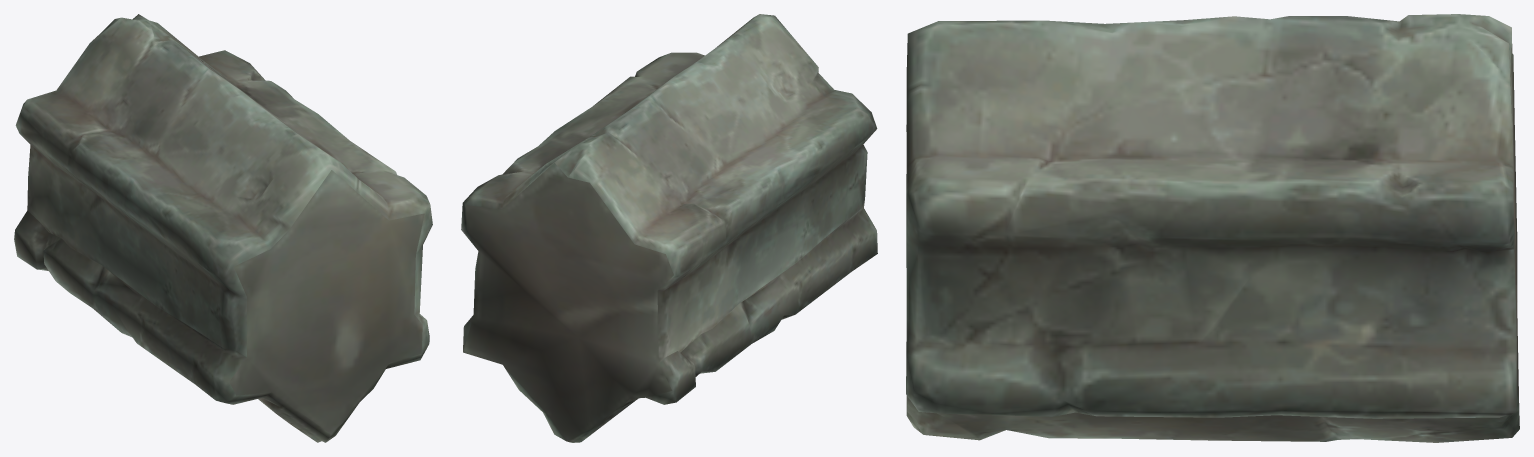
Rendered from Ruins_Pillar_5m_B.obj.
The picture shows the model from 3 angles, left to right: view 1: azimuth 30°, elevation 25°; view 2: azimuth 150°, elevation 25°; view 3: azimuth 270°, elevation 25°; orthographic projection. The views are drawn at different scales.
Parts seen in each view (by area): view 1: Dn_HL_Ruins_Pillar_5m_B; view 2: Dn_HL_Ruins_Pillar_5m_B; view 3: Dn_HL_Ruins_Pillar_5m_B.
Boxes of the visible parts, <box> form: Dn_HL_Ruins_Pillar_5m_B: <box>14,14,432,442</box>; Dn_HL_Ruins_Pillar_5m_B: <box>461,14,877,442</box>; Dn_HL_Ruins_Pillar_5m_B: <box>906,14,1519,442</box>.
Size of the model in its own units: 3.04 by 3.87 by 5.08.
